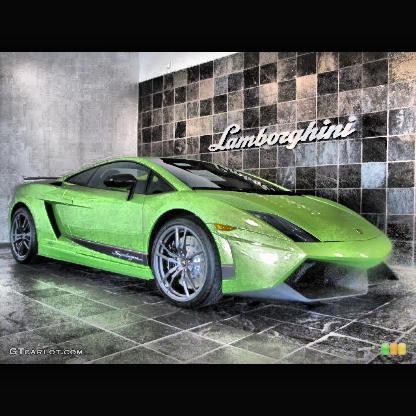Lamborghini Gallardo LP 570-4 Superleggera 2012: (9, 157, 405, 314)
